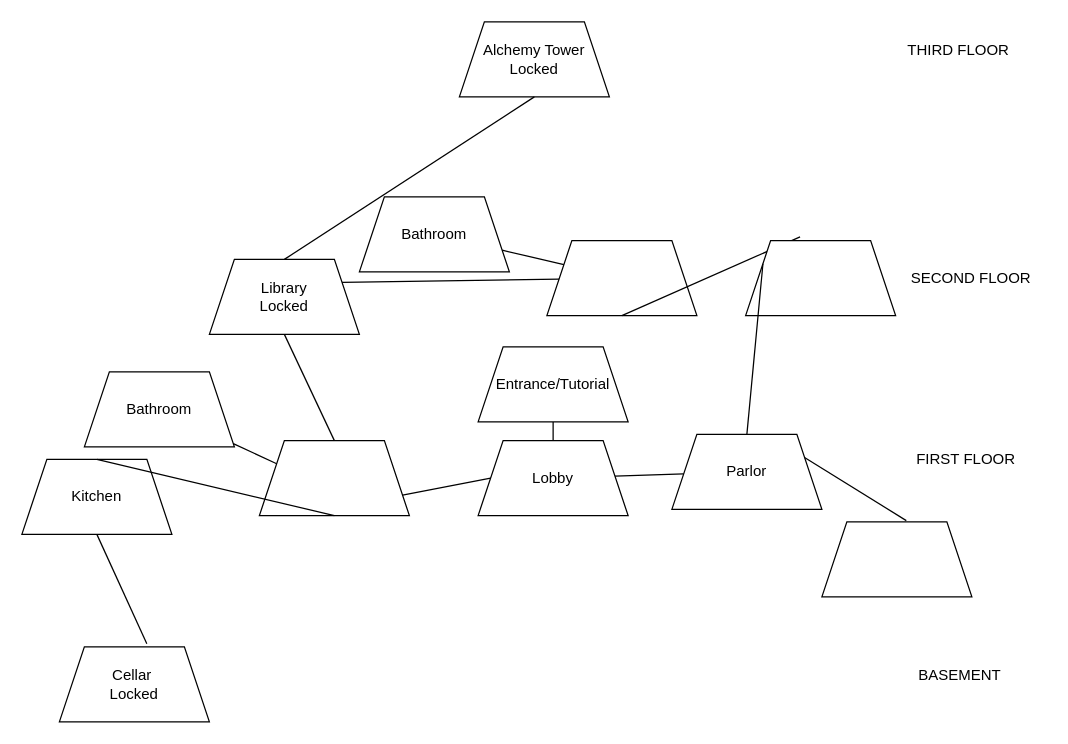
Some shapes in this 1068 by 744 pixel diagram are drawn without their labels. The shapes that lost their labels are listed below. From the top down, each one's centre as x and y in pixels, then its label:
At point 621,277: "Bedroom Locked".
At point 820,277: "Landing Locked".
At point 333,477: "Dining".
At point 896,559: "Greenhouse Locked".
